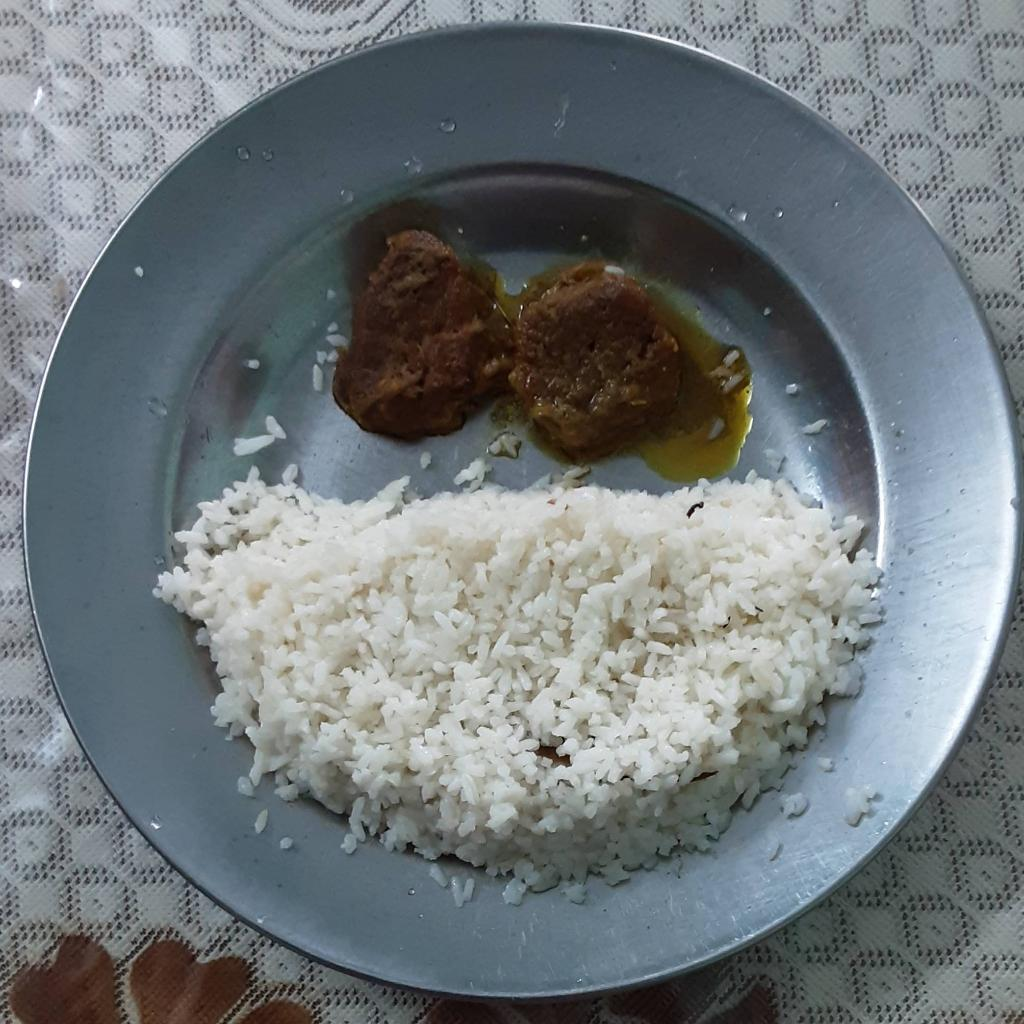beef: (332, 229, 681, 454)
rice: (154, 455, 884, 907)
